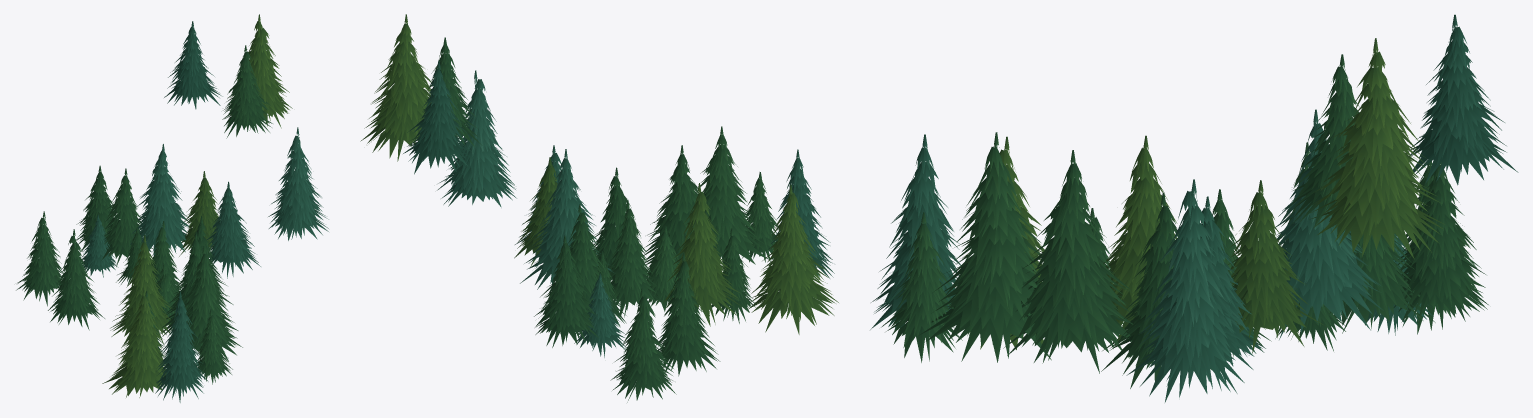
Rendered from pine_7.glb.
3 renders of one model, left to right at view 1: azimuth 30°, elevation 25°; view 2: azimuth 150°, elevation 25°; view 3: azimuth 270°, elevation 25°, orthographic. The views are drawn at different scales.
Visible parts, largest first — view 1: pine_7; view 2: pine_7; view 3: pine_7.
Boxes of the visible parts, left/top/right/bottom form: pine_7: left=16, top=14, right=328, bottom=402; pine_7: left=360, top=14, right=838, bottom=402; pine_7: left=870, top=14, right=1518, bottom=402.
Bounding box in the file's own units: 36.93 × 32.8 × 38.97.
Materials: 1 (1 with a texture image).
